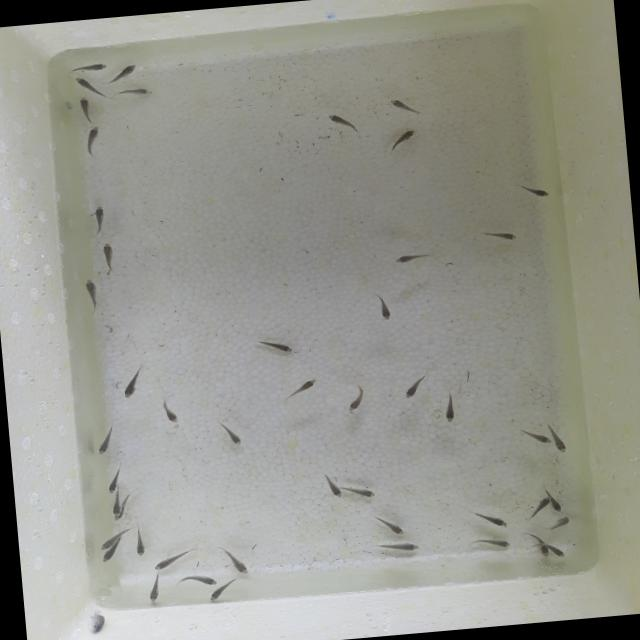fingerling: (216, 538, 252, 580), (151, 545, 201, 574), (80, 602, 120, 638), (318, 108, 365, 138), (342, 379, 377, 415), (366, 535, 426, 556), (250, 331, 297, 357), (468, 504, 511, 532), (280, 375, 324, 402), (140, 572, 169, 612), (438, 387, 464, 428), (385, 92, 423, 120), (172, 568, 220, 590), (476, 224, 524, 246), (400, 369, 430, 404), (96, 238, 122, 278), (516, 422, 554, 449), (470, 532, 520, 552), (118, 366, 144, 404), (126, 526, 156, 558), (87, 202, 115, 236), (388, 123, 423, 150), (373, 289, 399, 325), (156, 397, 185, 429), (92, 422, 116, 458), (208, 578, 236, 608), (80, 124, 106, 155), (320, 470, 345, 502), (221, 418, 246, 449), (550, 425, 572, 459), (392, 248, 433, 266), (344, 481, 379, 502), (80, 274, 101, 308), (376, 515, 407, 538), (102, 465, 125, 495), (518, 182, 554, 201), (110, 62, 142, 83), (114, 83, 158, 98), (68, 60, 112, 74), (74, 95, 96, 122), (548, 512, 576, 531), (73, 74, 97, 94), (107, 493, 125, 517), (97, 532, 119, 550), (98, 550, 122, 566), (551, 540, 570, 560), (535, 492, 552, 510), (550, 499, 566, 514), (536, 546, 553, 558)
